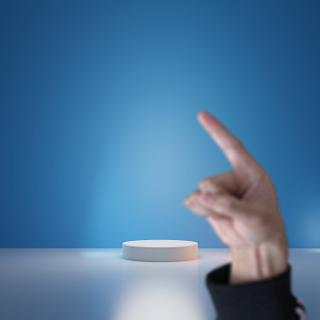IRRITATED: (179, 109, 287, 246)
